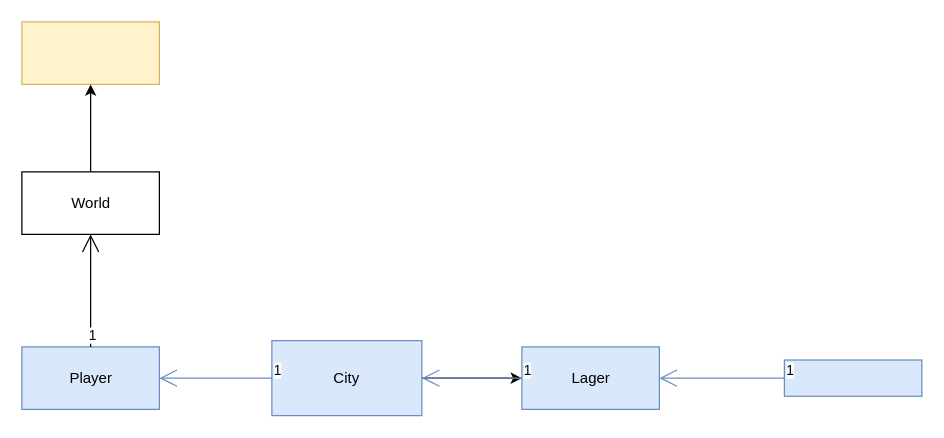
Image size: 944x438. Some labels were removed from this diagram. Here are the shapes that lost their labels. From the top down, the centre of each, then its label:
At [90,52]: "User".
At [852,377]: "Items".
